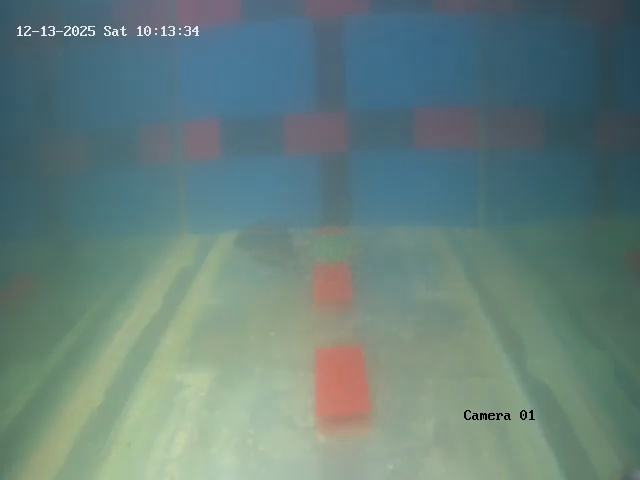fish: (238, 218, 295, 267)
